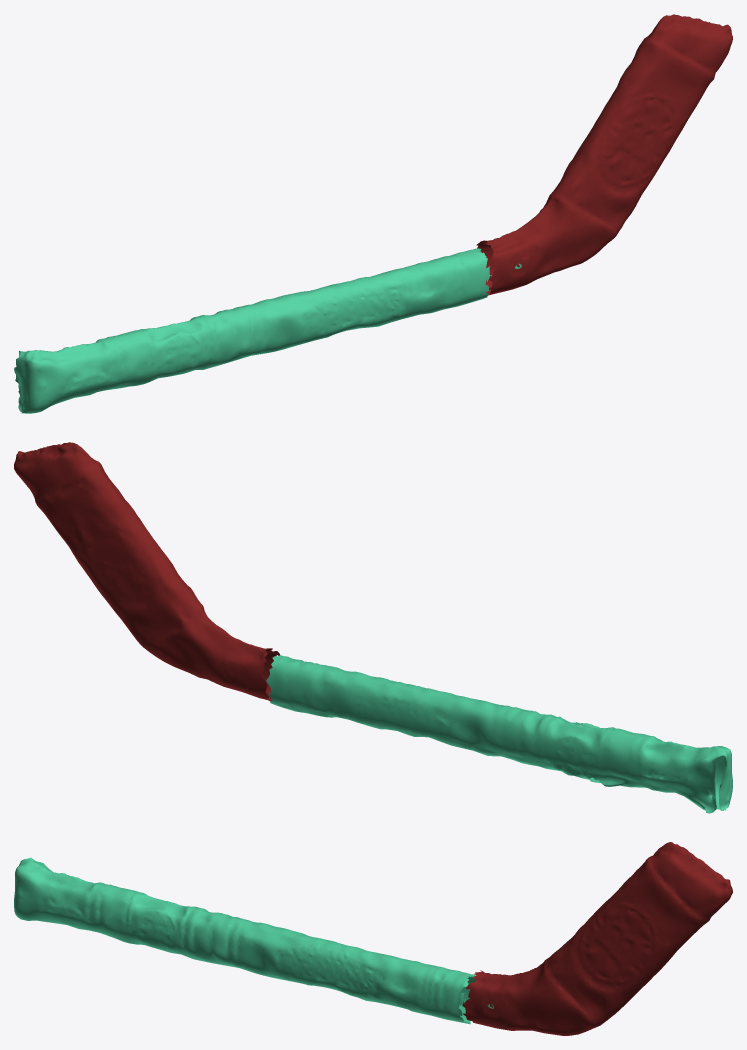
File: object_deformed_5.obj
3 views of the same model, one above another, from view 1: azimuth 30°, elevation 25°; view 2: azimuth 150°, elevation 25°; view 3: azimuth 330°, elevation 25° (orthographic). The views are drawn at different scales.
Bounding box in the file's own units: 0.6413 × 0.1939 × 0.0513.
